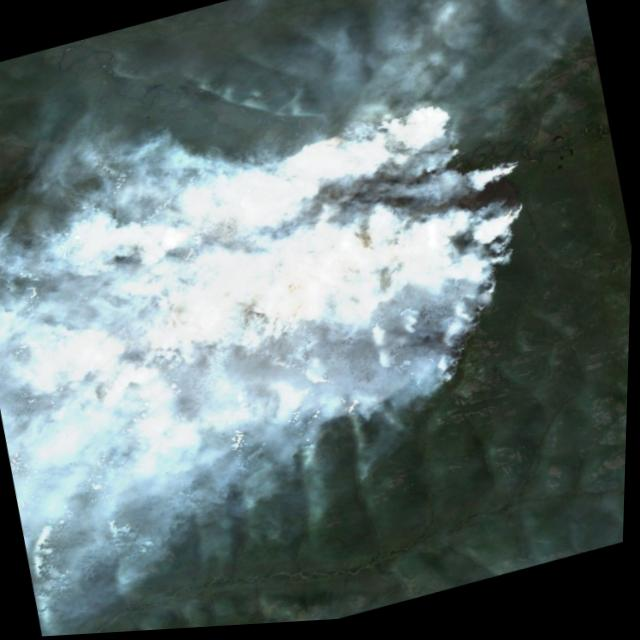fire: (73, 71, 575, 481)
